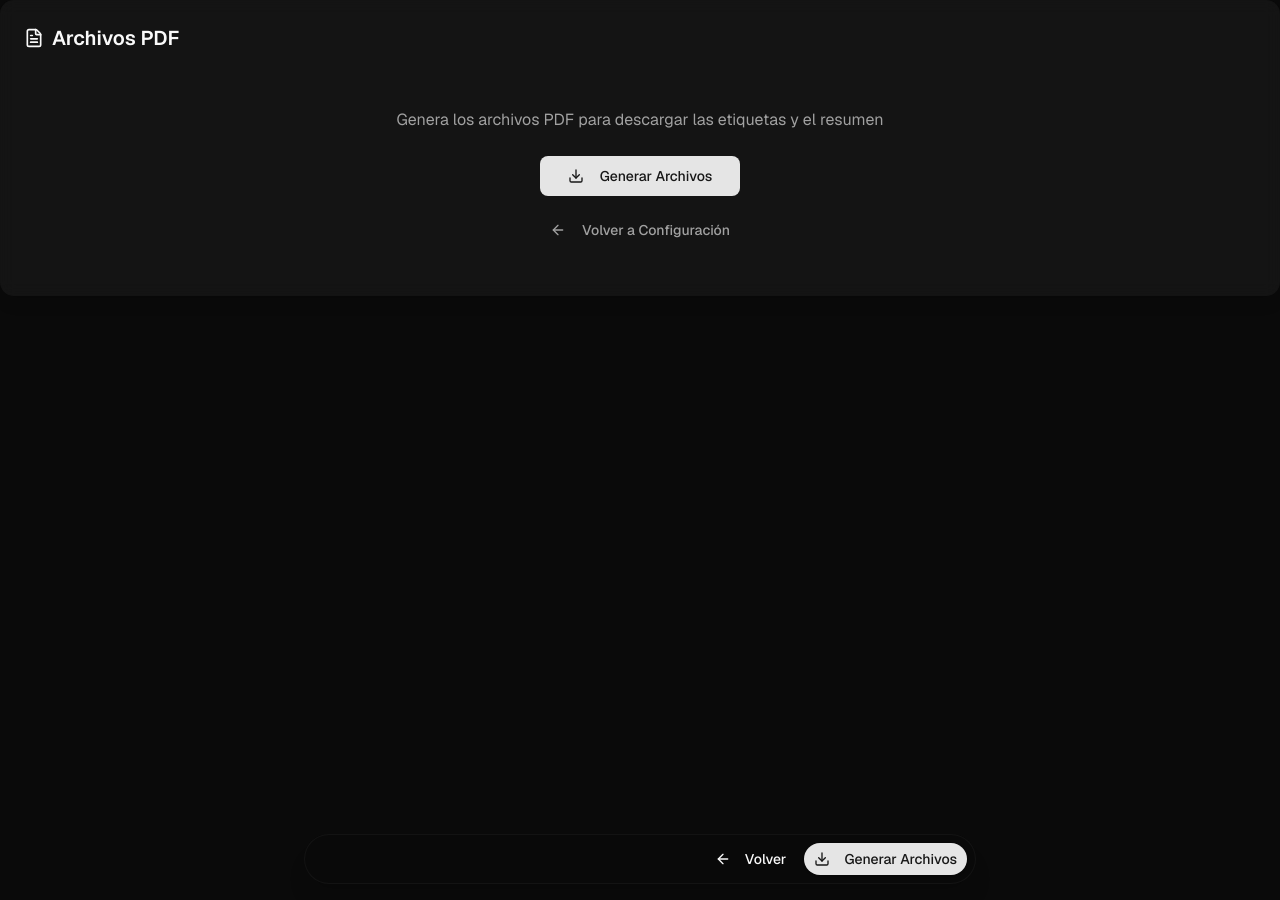
Test: PdfDownloader › genera archivos y revela los botones de descarga
Click the 1st button "Generar Archivos": (640,176) [540,156,740,196]
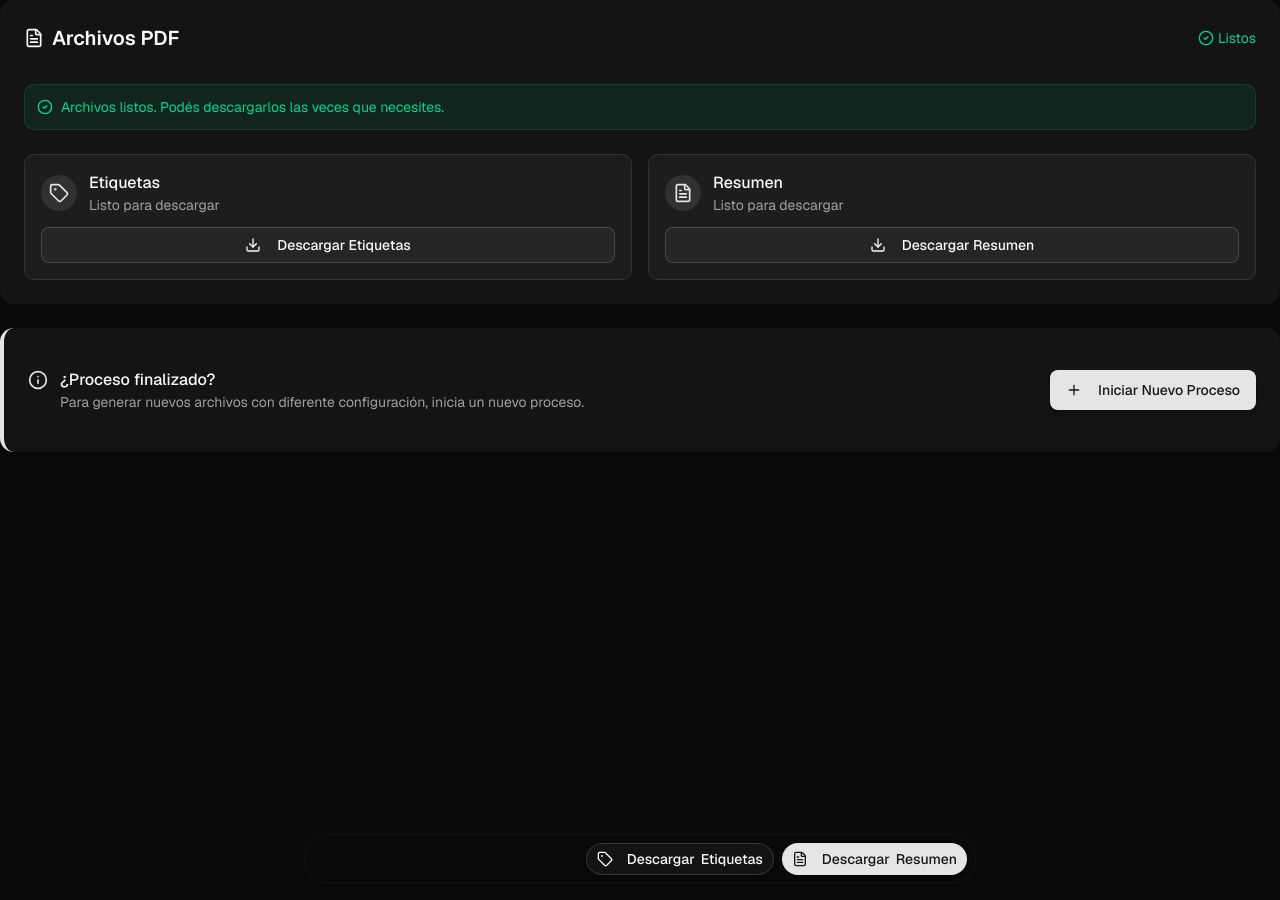
Now the button "Descargar Etiquetas" below "Archivos PDF" is shown, box [41,227,615,263]
Now the 1st button "Descargar Resumen" is shown, box [665,227,1239,263]
